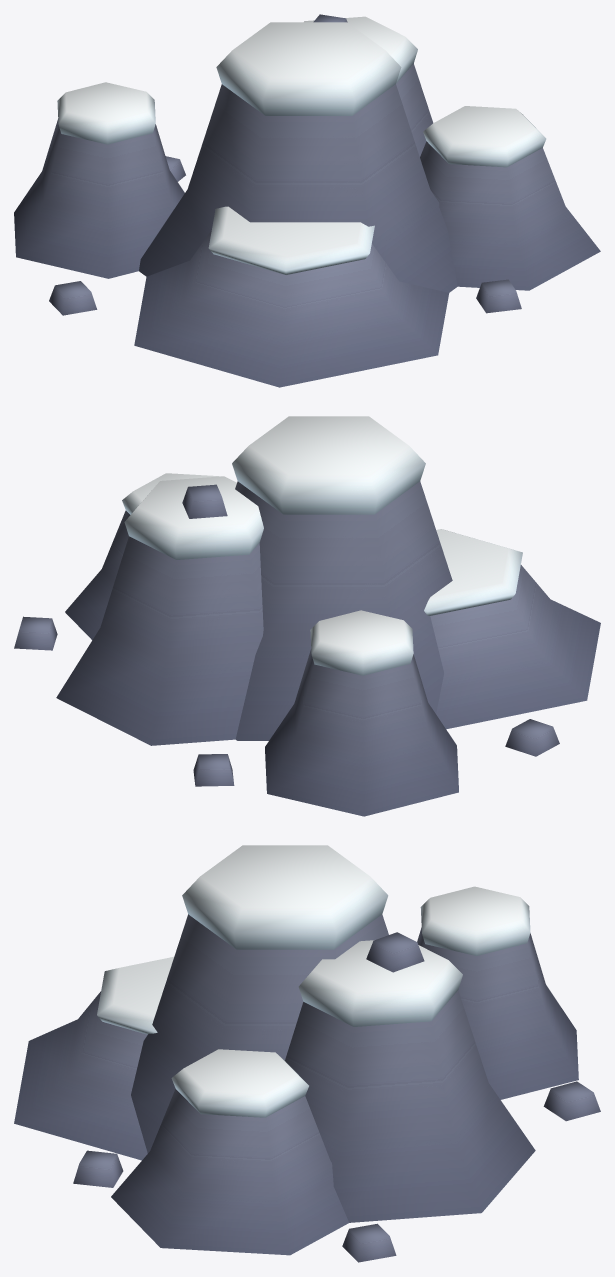
File: rocks-small.glb
3 views of the same model, one above another, from view 1: azimuth 30°, elevation 25°; view 2: azimuth 150°, elevation 25°; view 3: azimuth 270°, elevation 25° (orthographic). The views are drawn at different scales.
Parts seen in each view (by area): view 1: rocks-small; view 2: rocks-small; view 3: rocks-small.
Part boxes in pixels (<box>): rocks-small: <box>14,14,600,387</box>; rocks-small: <box>14,416,600,816</box>; rocks-small: <box>14,845,600,1262</box>.
Size of the model in its own units: 1.54 by 0.646 by 1.41.
Materials: 1 (1 with a texture image).
